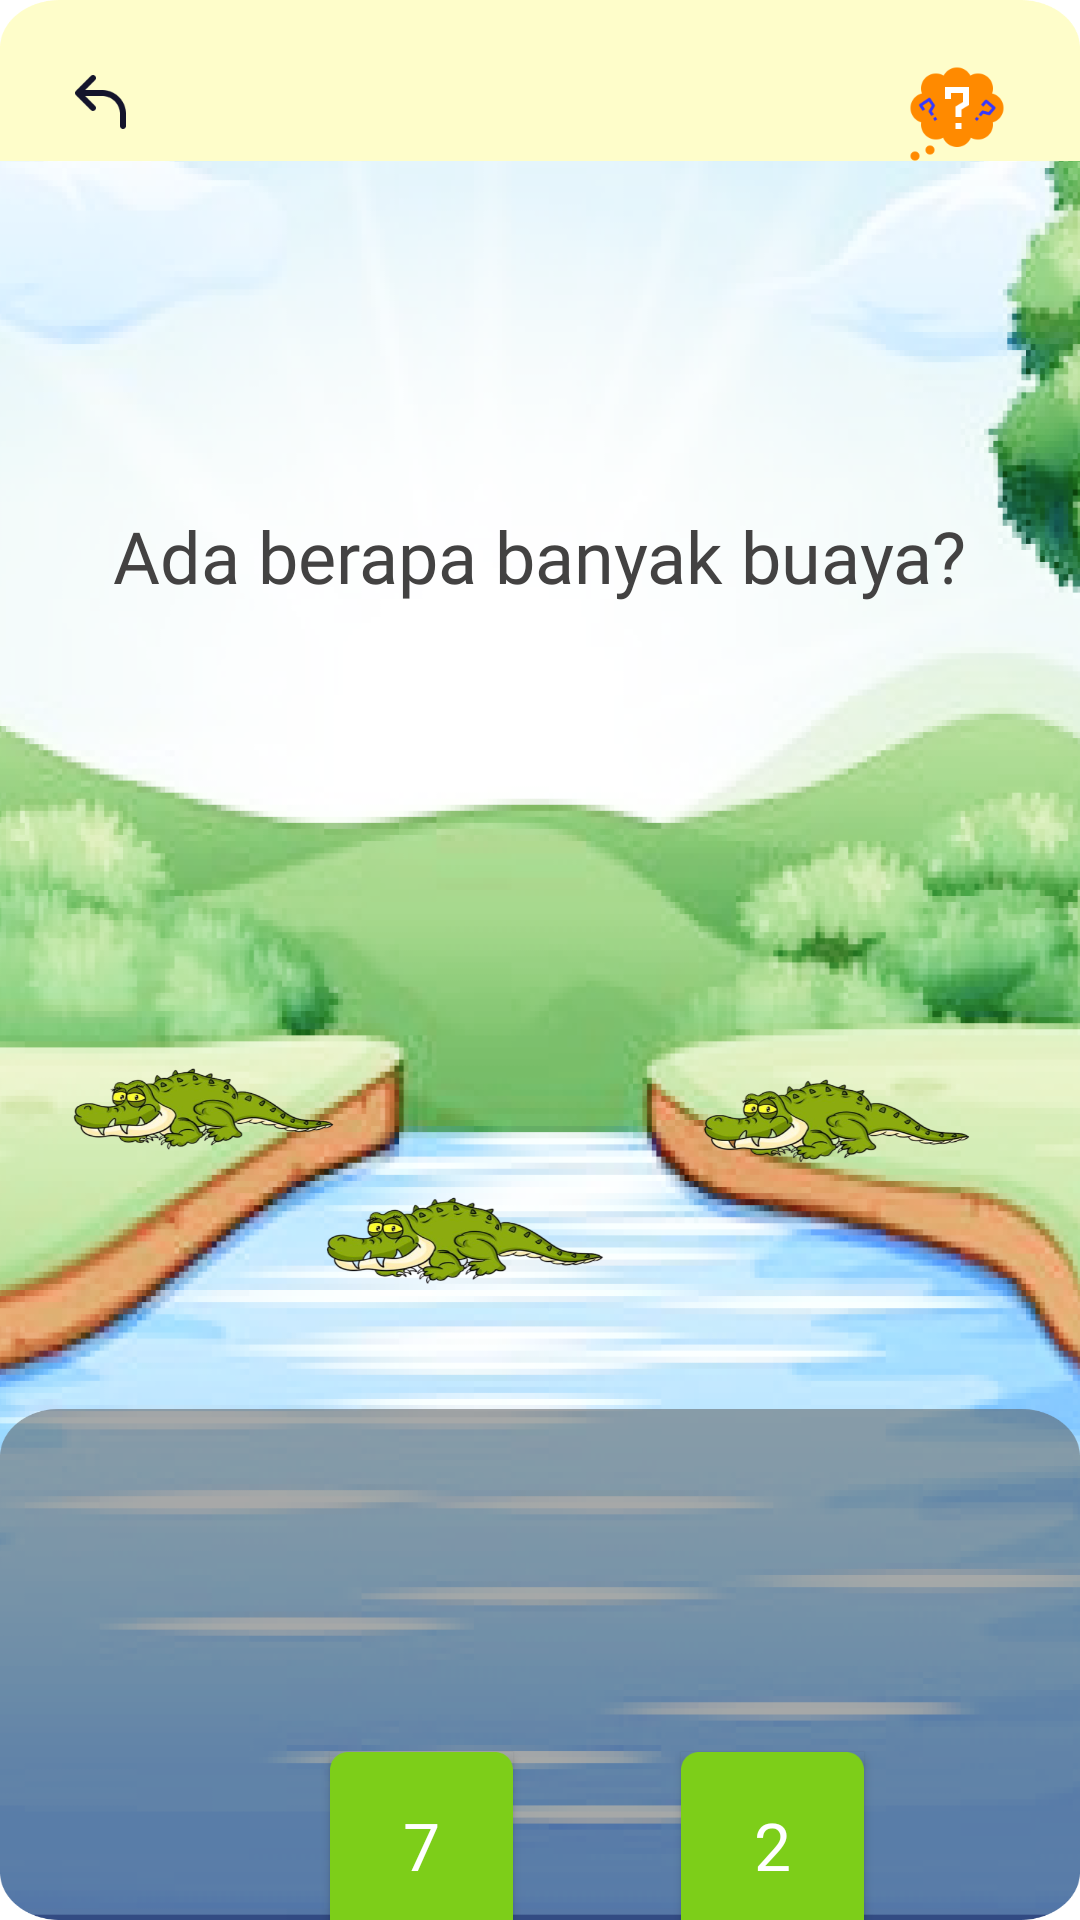

Point at icon controls on the screen. Image size 1080 × 1920, points as (x,y).
back: (100,102)
help: (957,111)
